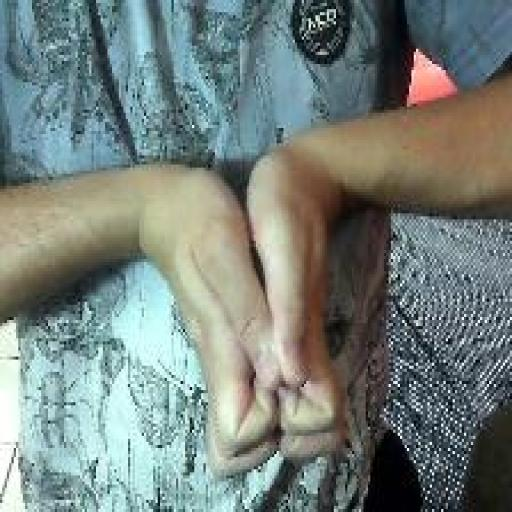I -boar-: (150, 143, 348, 482)
